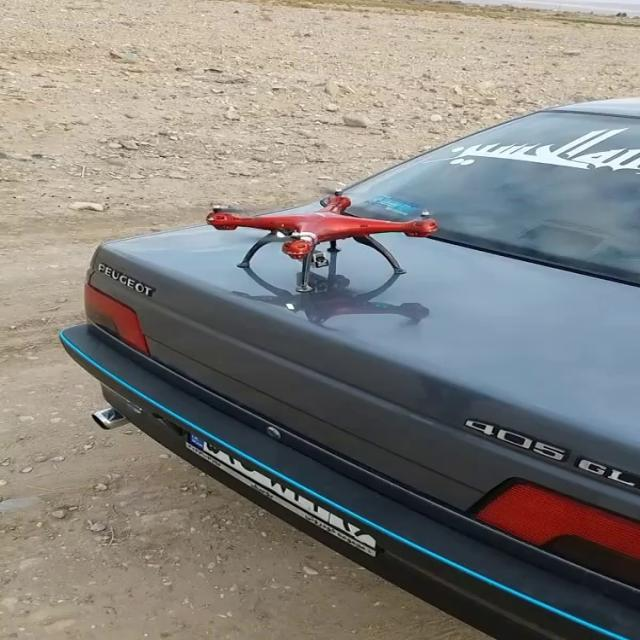drone: (198, 182, 449, 298)
